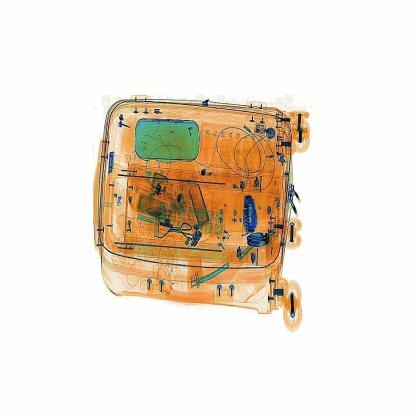scissors: (236, 183, 263, 236)
